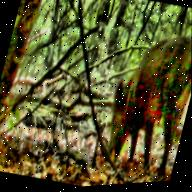boar: (93, 23, 192, 177)
